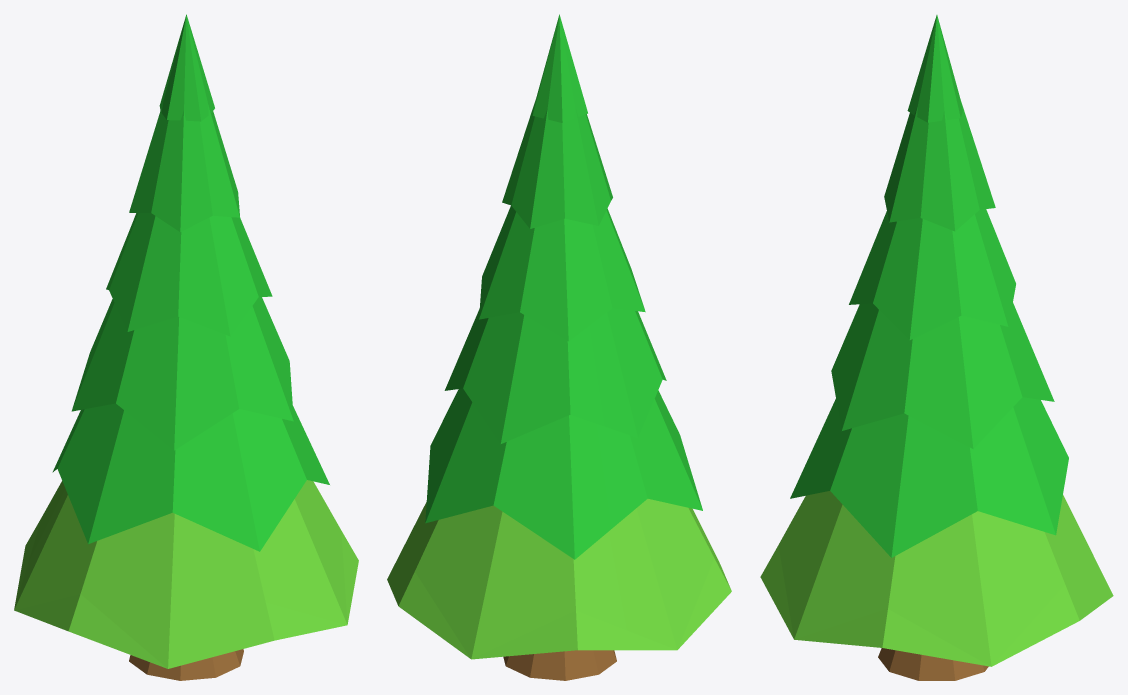
Rendered from tree2.glb.
The picture shows the model from 3 angles, left to right: view 1: azimuth 30°, elevation 25°; view 2: azimuth 150°, elevation 25°; view 3: azimuth 270°, elevation 25°; orthographic projection.
Visible parts, largest first — view 1: Cylinder, Cylinder.001; view 2: Cylinder, Cylinder.001; view 3: Cylinder, Cylinder.001.
Boxes of the visible parts, x1=… form: Cylinder: x1=14, y1=14, x2=358, y2=668; Cylinder.001: x1=129, y1=649, x2=243, y2=680; Cylinder: x1=387, y1=14, x2=731, y2=659; Cylinder.001: x1=503, y1=650, x2=616, y2=680; Cylinder: x1=760, y1=15, x2=1113, y2=666; Cylinder.001: x1=878, y1=648, x2=988, y2=680.
Bounding box in the file's own units: 5.69 × 12.02 × 5.98.
